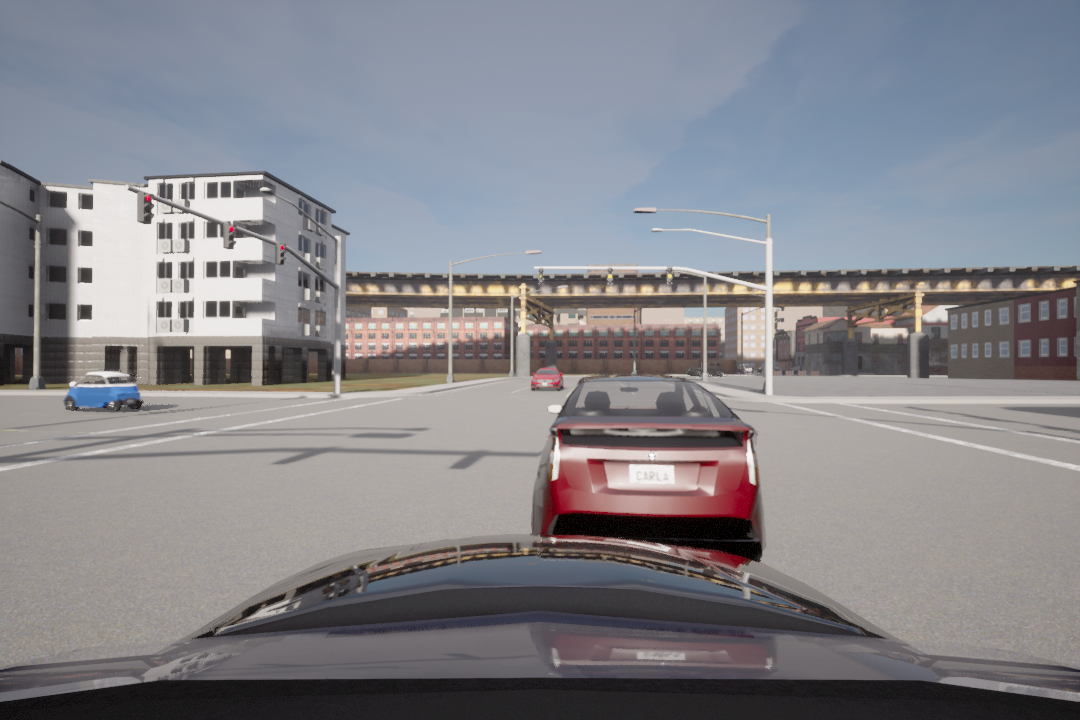TrafficLight: (135, 187, 158, 230), (273, 237, 286, 266), (224, 224, 236, 251), (535, 266, 545, 287), (606, 266, 615, 285), (665, 267, 674, 286)
